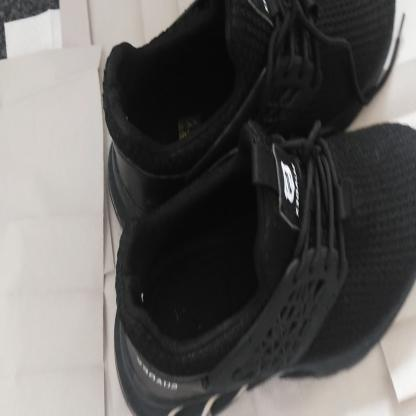safety-shoe: (98, 0, 416, 416)
